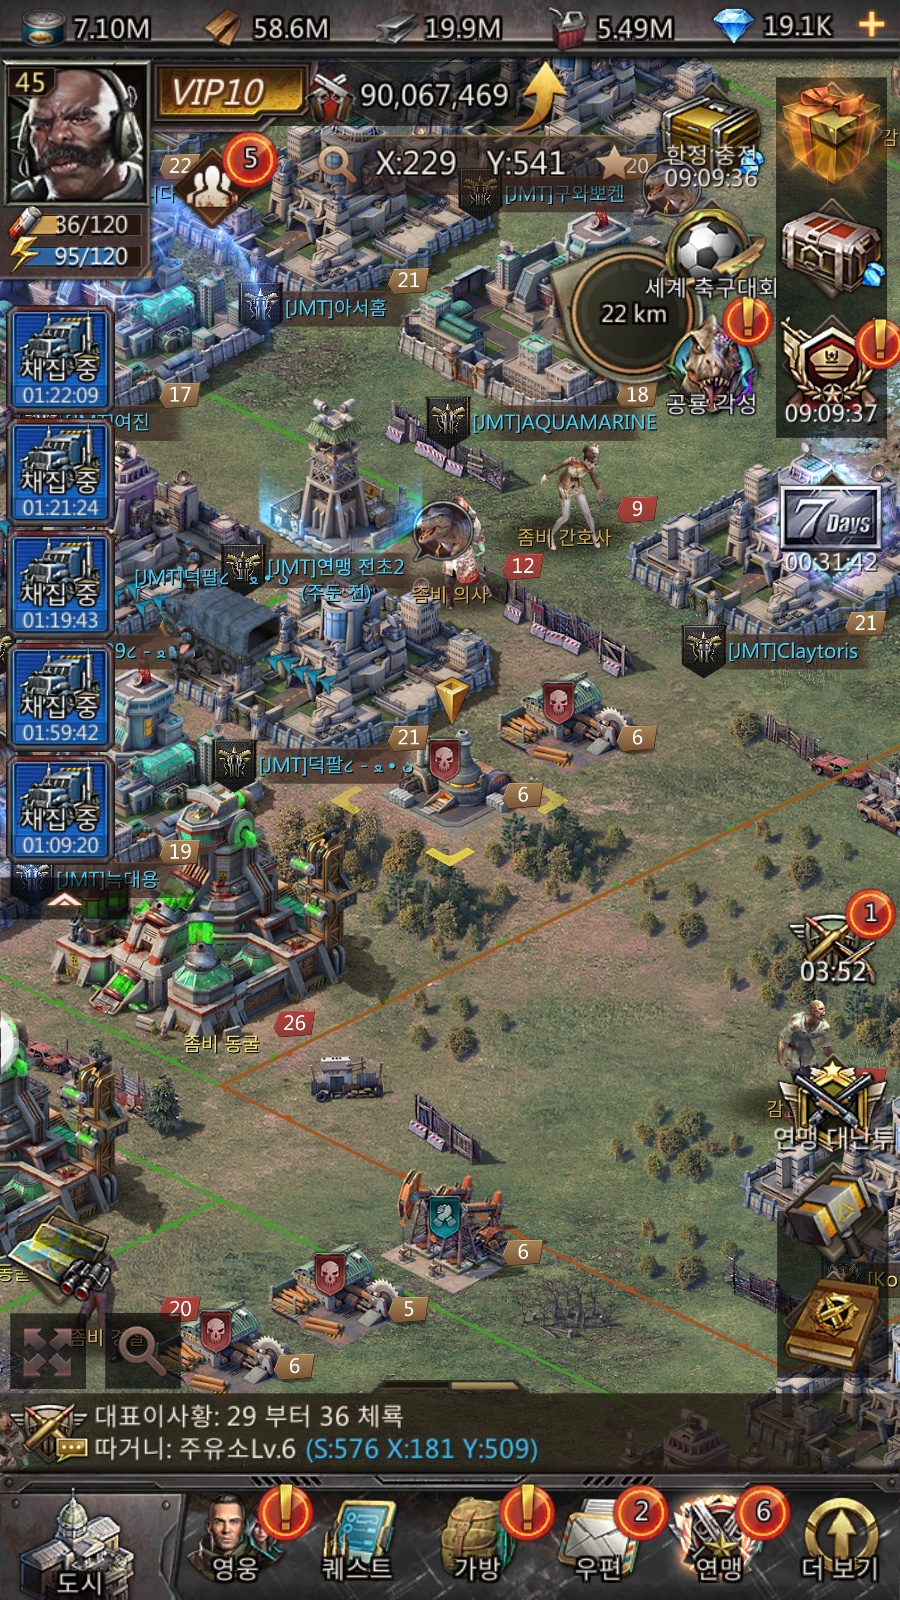city: (11, 1495, 164, 1600)
occupied_steel: (286, 662, 588, 896)
open_panel: (91, 1295, 197, 1405)
troops_cnt_5: (154, 107, 286, 252)
